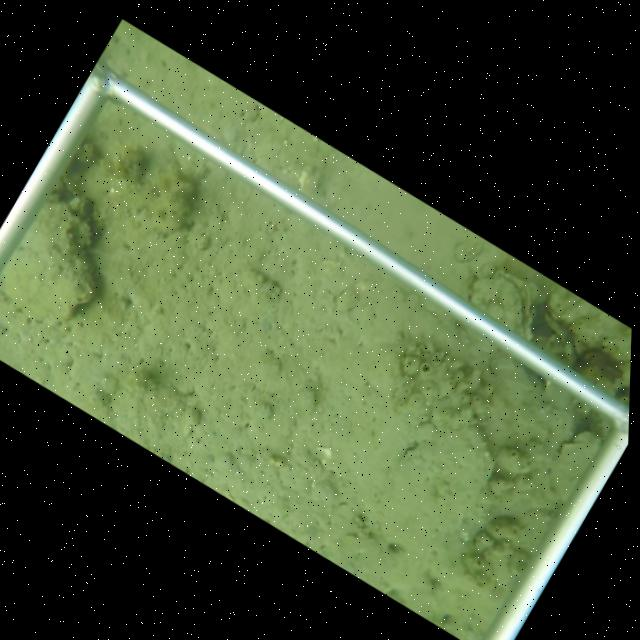Oyster-Indeterminate: (0, 201, 99, 329), (419, 417, 494, 537), (334, 287, 361, 313)
Oyster-Open: (470, 268, 537, 344), (397, 441, 421, 464)
